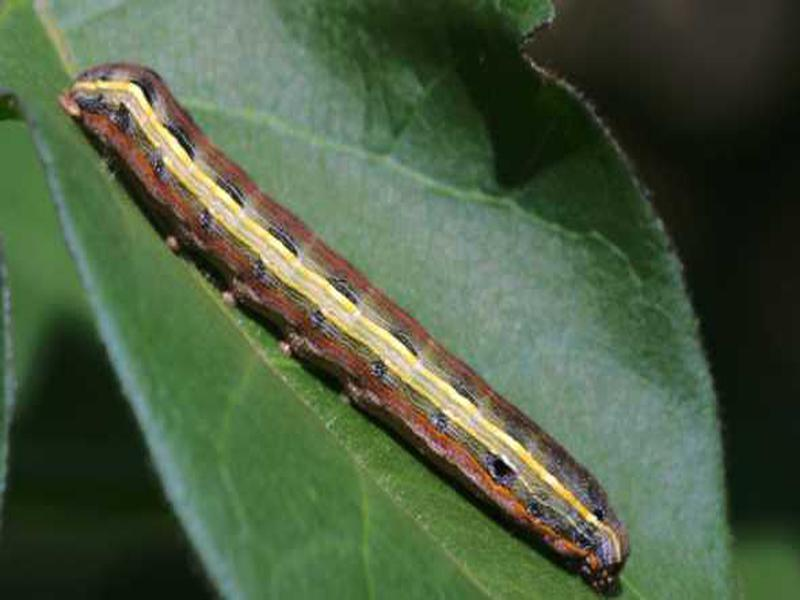Armyworms: (38, 54, 667, 593)
